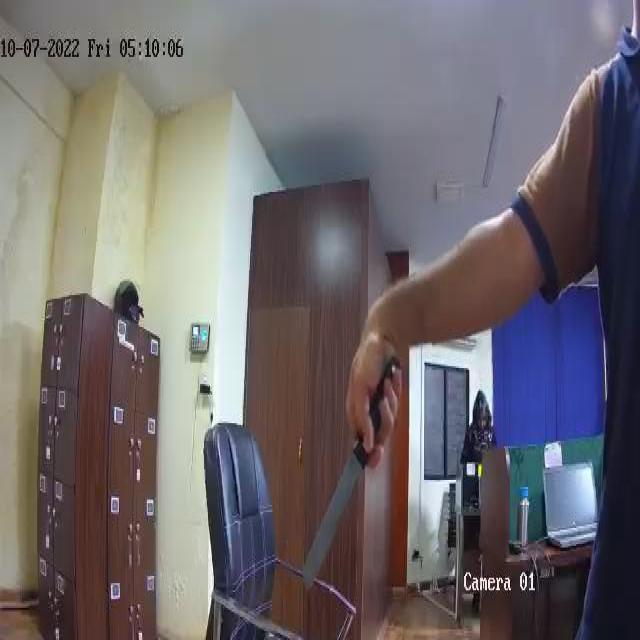faca: (302, 363, 398, 601)
